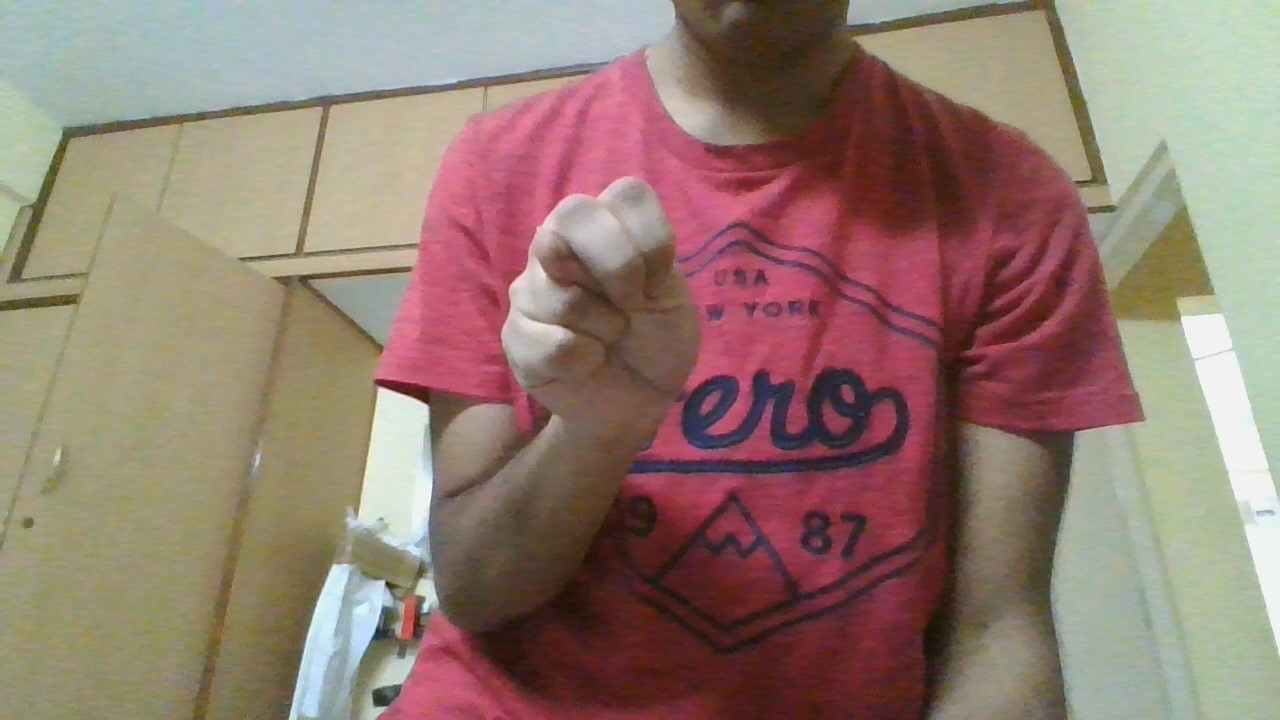n: (499, 173, 702, 443)
